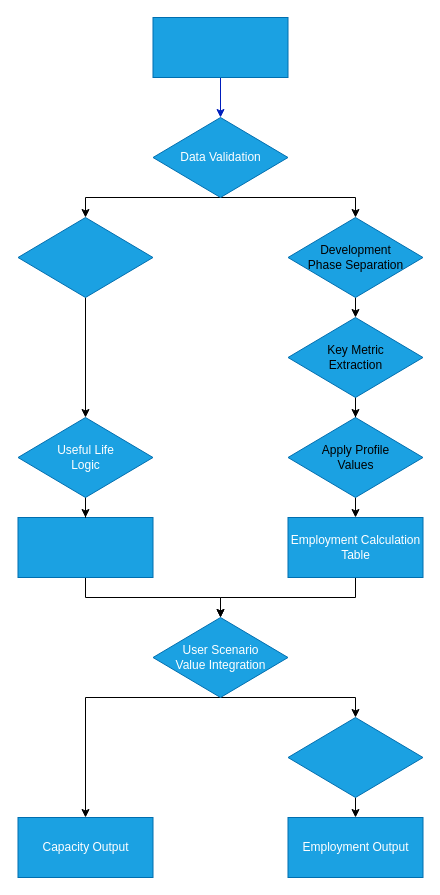
This 440x895 diagram has some shape labels left out. The centre of each missing label's shape, as x and y in pixels:
"Annualize Project Entries" belongs at [85,257].
"Capacity Calculation Table" belongs at [85,547].
"Occupational Shares" belongs at [355,757].
"Project Inventory" belongs at [220,47].
